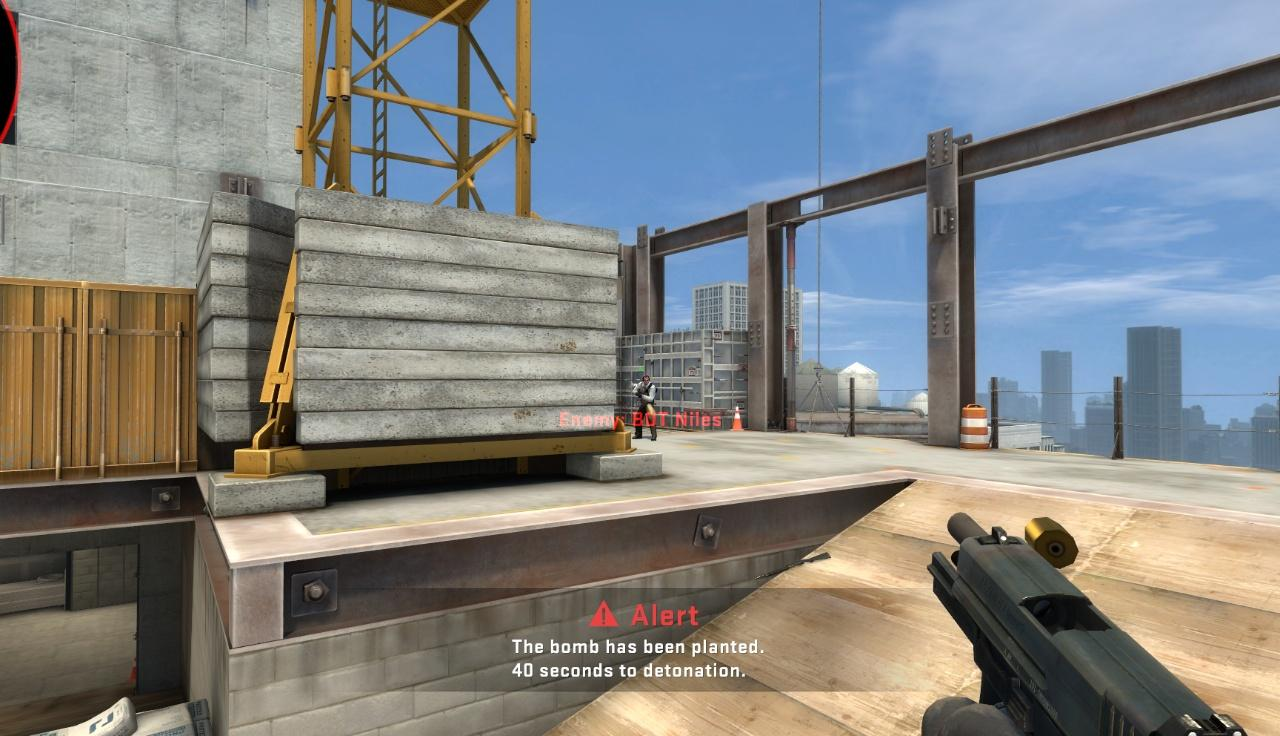pistol: (917, 510, 1263, 736)
tt: (633, 375, 659, 442)
tthead: (642, 375, 650, 384)
